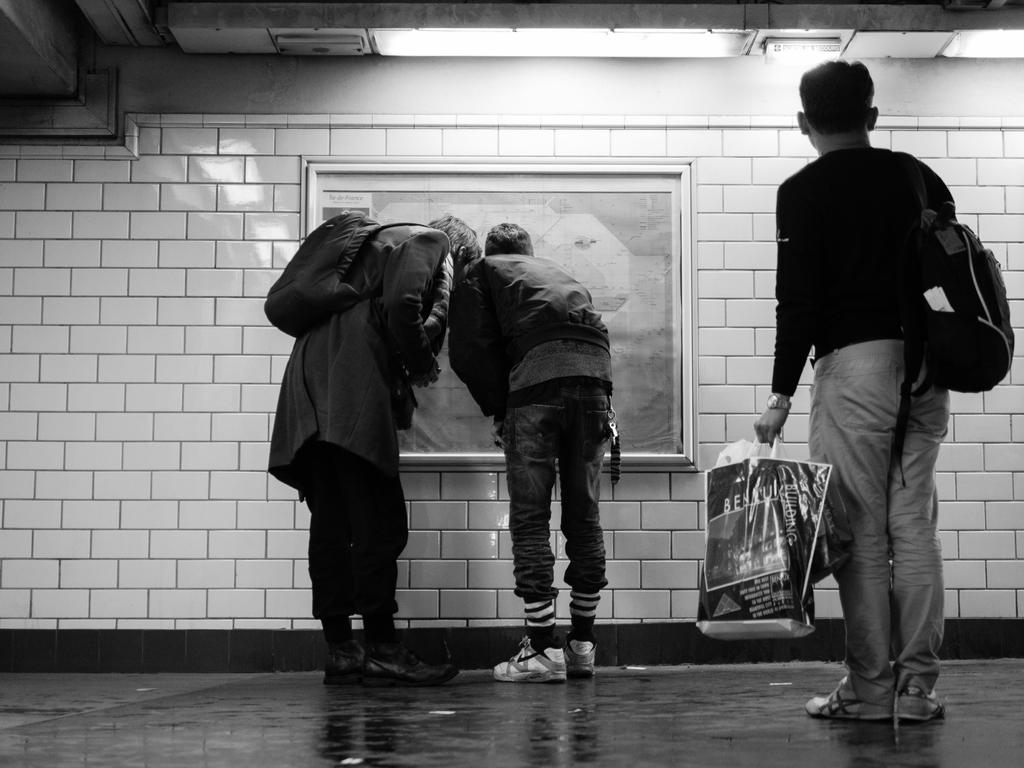Luggage-and-bags: (890, 175, 1005, 440), (701, 422, 829, 648), (254, 209, 444, 343)
